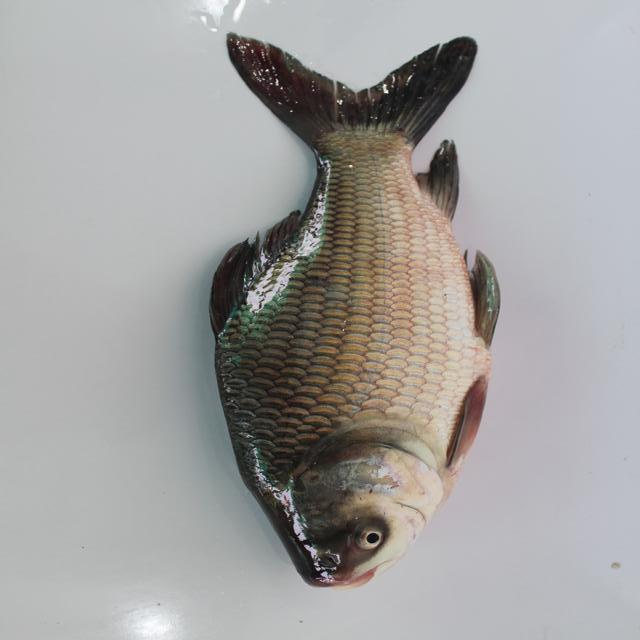Catla: (190, 14, 522, 613)
